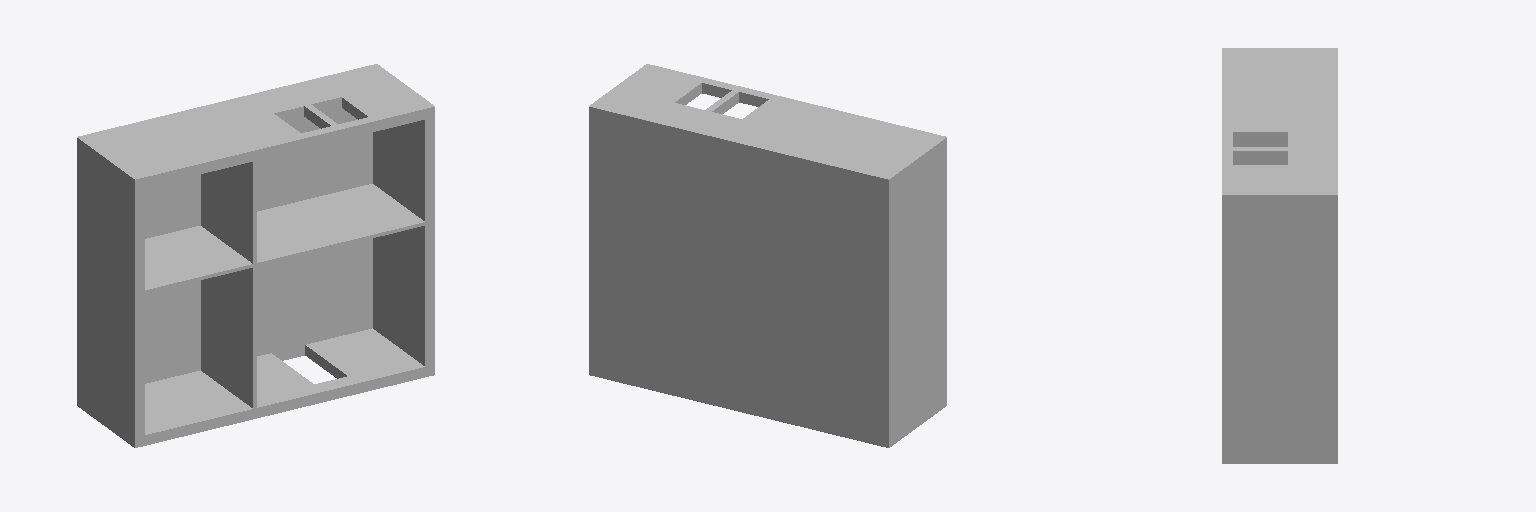
Rendered from lar_test.obj.
3 renders of one model, left to right at view 1: azimuth 30°, elevation 25°; view 2: azimuth 150°, elevation 25°; view 3: azimuth 270°, elevation 25°, orthographic.
Bounding box in the file's own units: 8.9 × 7.6 × 3.